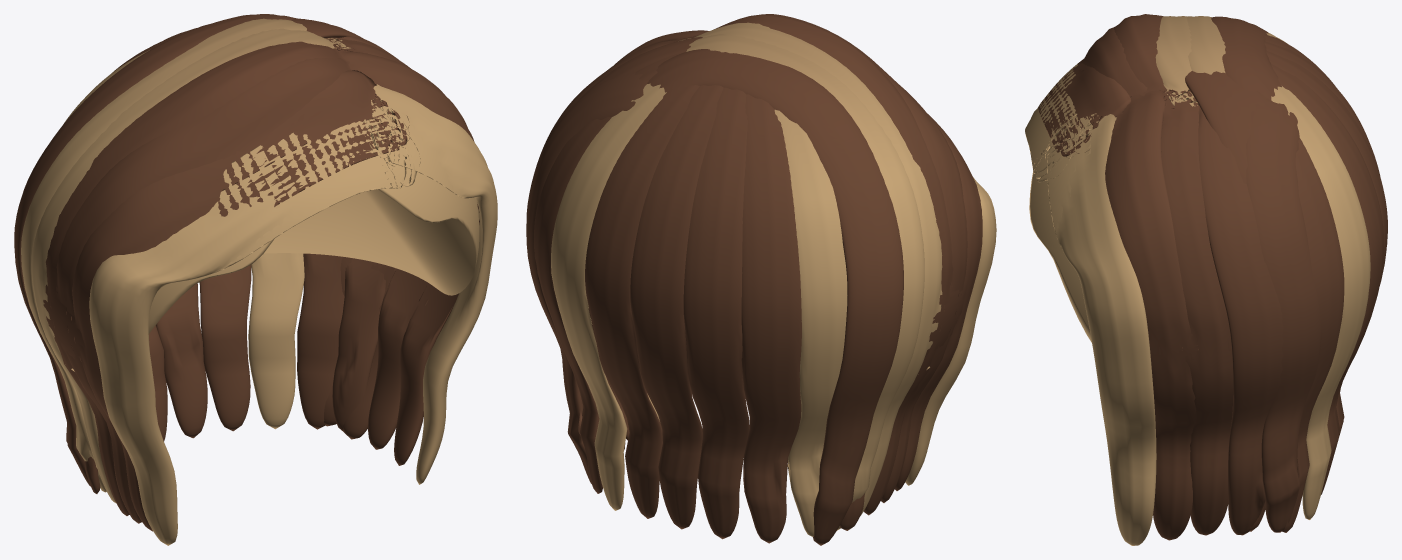
Rendered from Highlights-d62635bb6817251-hair.glb.
The picture shows the model from 3 angles, left to right: view 1: azimuth 30°, elevation 25°; view 2: azimuth 150°, elevation 25°; view 3: azimuth 270°, elevation 25°; orthographic projection. The views are drawn at different scales.
Parts seen in each view (by area): view 1: 226 hair / Hair / sculpted 0.002, 226 hair / Hair / sculpted 1.004, 226 hair / Hair / sculpted 2.002, 226 hair / Hair / sculpted 1.003; view 2: 226 hair / Hair / sculpted 0.002, 226 hair / Hair / sculpted 2.002, 226 hair / Hair / sculpted 1.004; view 3: 226 hair / Hair / sculpted 1.004, 226 hair / Hair / sculpted 2.002, 226 hair / Hair / sculpted 0.002, 226 hair / Hair / sculpted 1.003.
Part boxes in pixels (x1,y1,x2,y2): 226 hair / Hair / sculpted 0.002: (14, 14, 428, 545); 226 hair / Hair / sculpted 1.004: (31, 19, 497, 531); 226 hair / Hair / sculpted 2.002: (21, 18, 479, 523); 226 hair / Hair / sculpted 1.003: (71, 172, 479, 371); 226 hair / Hair / sculpted 0.002: (551, 14, 996, 545); 226 hair / Hair / sculpted 2.002: (526, 14, 967, 536); 226 hair / Hair / sculpted 1.004: (526, 22, 982, 543); 226 hair / Hair / sculpted 1.004: (1038, 16, 1384, 545); 226 hair / Hair / sculpted 2.002: (1062, 16, 1387, 540); 226 hair / Hair / sculpted 0.002: (1025, 14, 1380, 535); 226 hair / Hair / sculpted 1.003: (1029, 171, 1091, 342).
Bounding box in the file's own units: 0.9998 × 1.08 × 0.7947.
